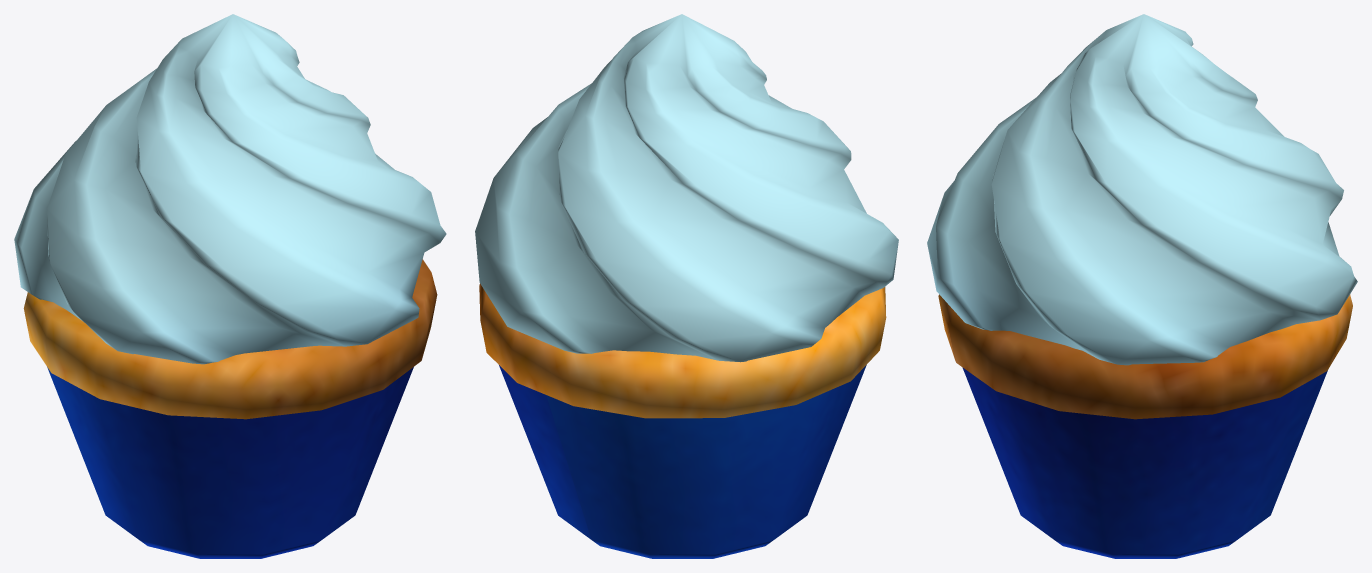
The model's file is Cupcake_3.fbx.
3 renders of one model, left to right at view 1: azimuth 30°, elevation 25°; view 2: azimuth 150°, elevation 25°; view 3: azimuth 270°, elevation 25°, orthographic.
Parts seen in each view (by area): view 1: Cupcake_3; view 2: Cupcake_3; view 3: Cupcake_3.
Part boxes in pixels (left/top/right/bottom): Cupcake_3: left=14, top=14, right=446, bottom=558; Cupcake_3: left=475, top=14, right=898, bottom=558; Cupcake_3: left=927, top=14, right=1357, bottom=558.
Size of the model in its own units: 10.47 by 13.38 by 10.49.
